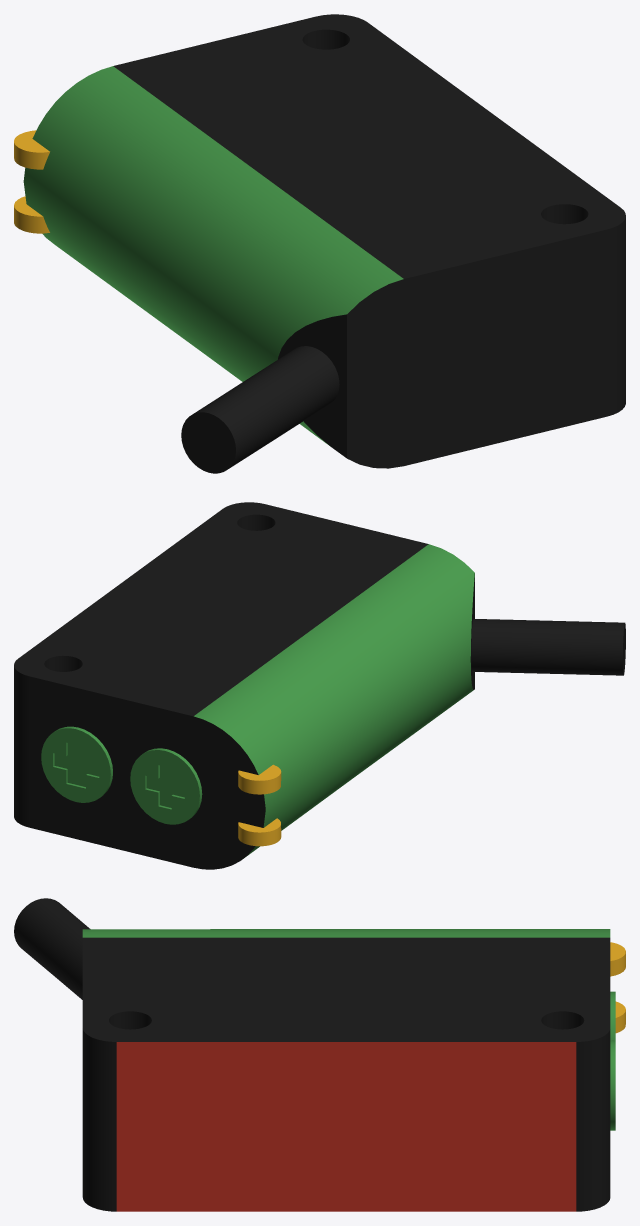
Rendered from pepperl_fuchs_ml100.dae.
3 views of the same model, one above another, from view 1: azimuth 30°, elevation 25°; view 2: azimuth 150°, elevation 25°; view 3: azimuth 270°, elevation 25° (orthographic). The views are drawn at different scales.
Parts seen in each view (by area): view 1: Body1; view 2: Body1; view 3: Body1.
Part boxes in pixels (box(x1,y1,x2,y2)): Body1: box(14, 14, 625, 473); Body1: box(14, 502, 625, 869); Body1: box(14, 898, 625, 1211).
Size of the model in its own units: 1.13 by 0.4331 by 1.42.
